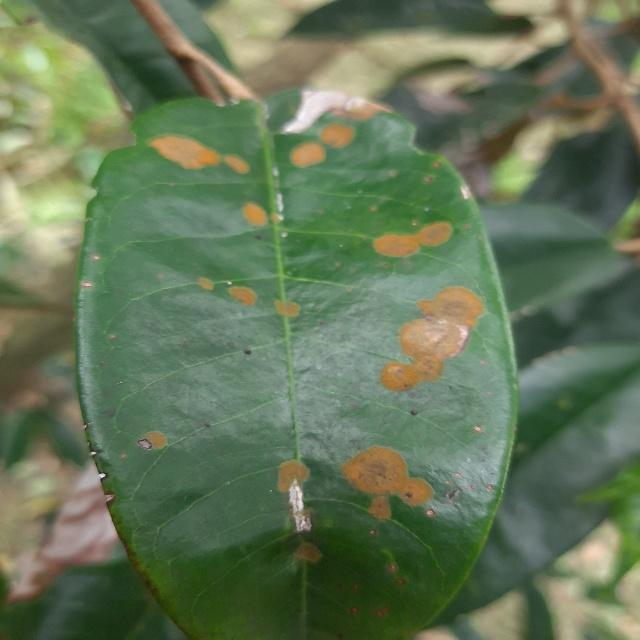Algal Leaf Spot: (71, 85, 526, 640)
